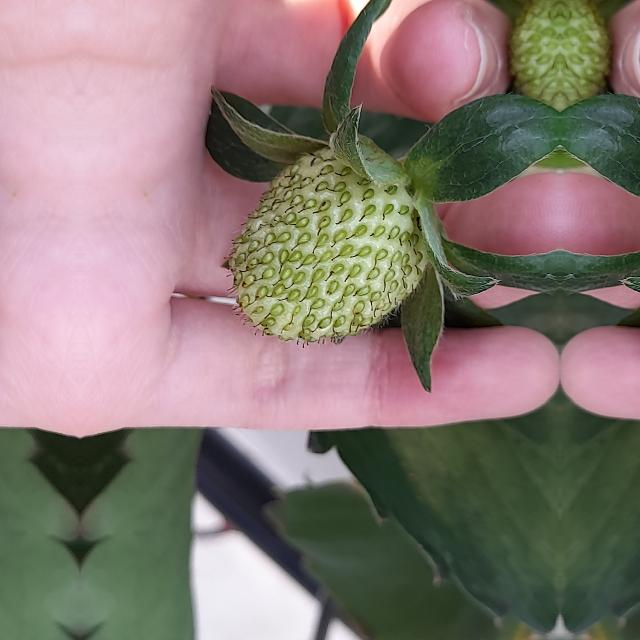Health_25: (222, 146, 430, 348)
